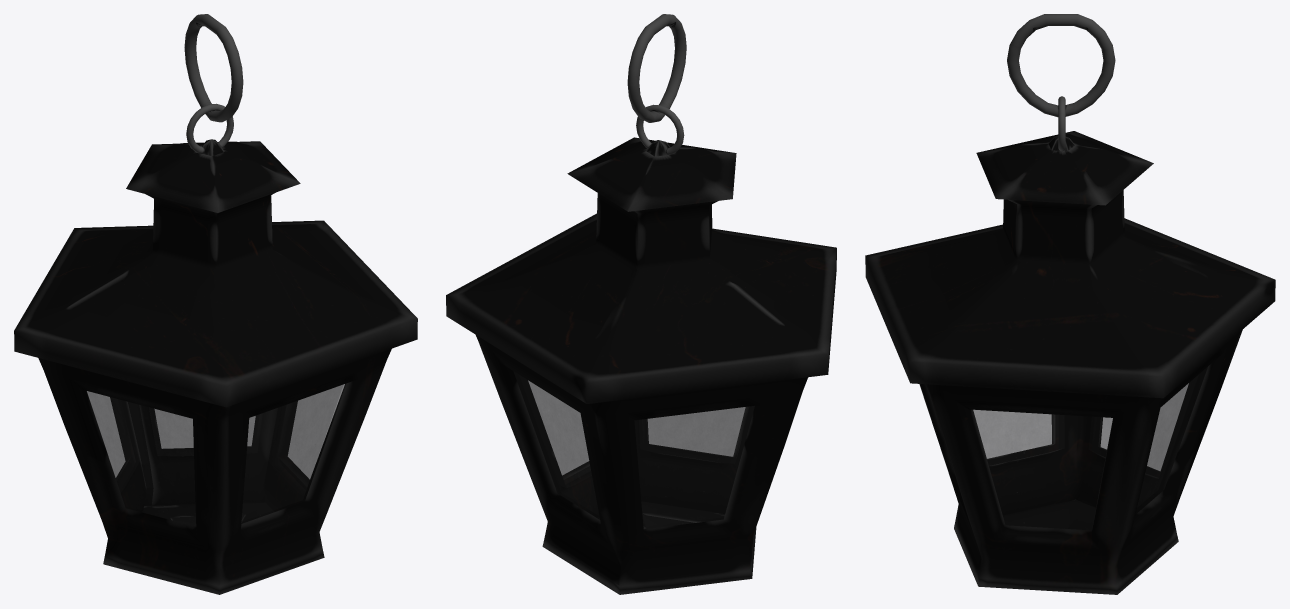
3 views of the same model, side by side, from view 1: azimuth 30°, elevation 25°; view 2: azimuth 150°, elevation 25°; view 3: azimuth 270°, elevation 25° (orthographic). The views are drawn at different scales.
Parts seen in each view (by area): view 1: revolvedSurface1, pTorus1, pTorus2; view 2: revolvedSurface1, pTorus1, pTorus2; view 3: revolvedSurface1, pTorus1.
Boxes of the visible parts, x1,y1,x2,y2 form: revolvedSurface1: (14,139,417,594); pTorus1: (184,14,243,122); pTorus2: (186,103,233,153); revolvedSurface1: (446,137,836,594); pTorus1: (627,14,686,122); pTorus2: (636,104,684,154); revolvedSurface1: (865,131,1275,594); pTorus1: (1007,14,1115,117).
Size of what is drawn, in the model's own units: 3.38 by 5.19 by 3.4.
Materials: 4 (4 with a texture image).
